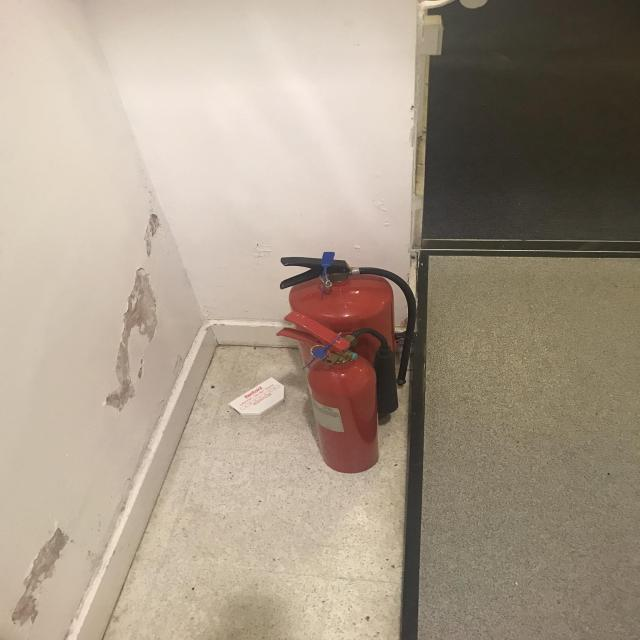fire_extinguisher: (272, 254, 422, 426), (270, 309, 400, 478)
